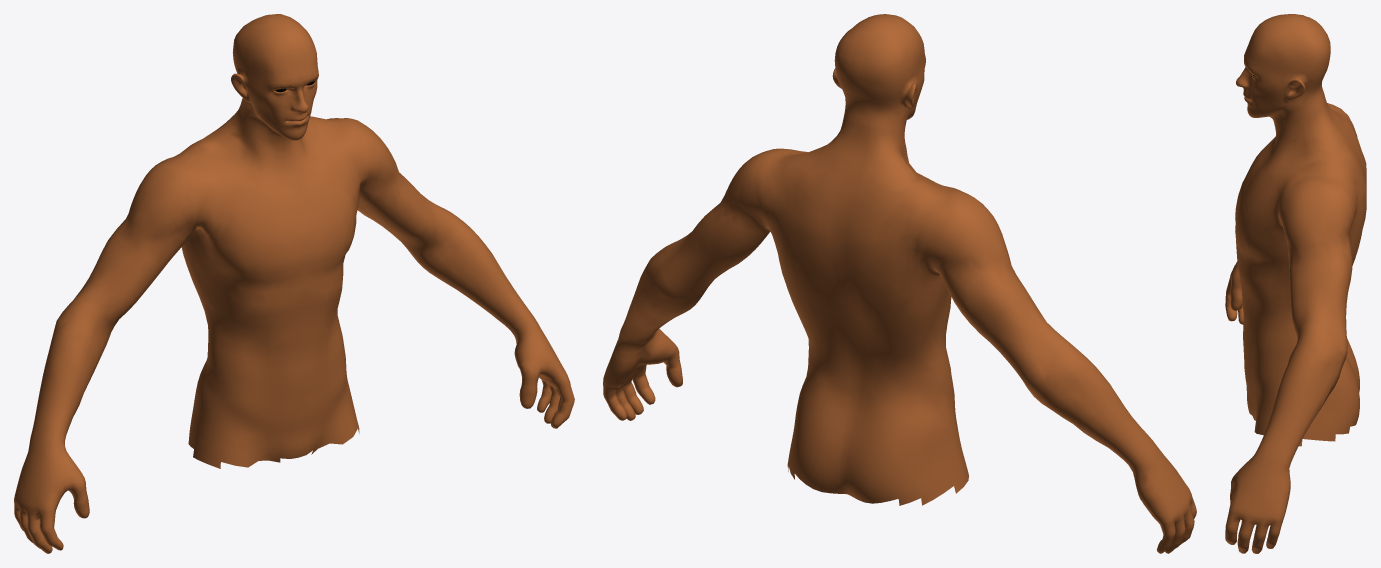
The model's file is male-upper-eyes.glb.
The picture shows the model from 3 angles, left to right: view 1: azimuth 30°, elevation 25°; view 2: azimuth 150°, elevation 25°; view 3: azimuth 270°, elevation 25°; orthographic projection. The views are drawn at different scales.
Visible parts, largest first — view 1: Object_720; view 2: Object_720; view 3: Object_720.
Boxes of the visible parts, x1,y1,x2,y2 form: Object_720: (14,14,574,553); Object_720: (603,14,1196,553); Object_720: (1225,14,1366,553).
Size of the model in its own units: 1.07 by 0.8562 by 0.2599.
